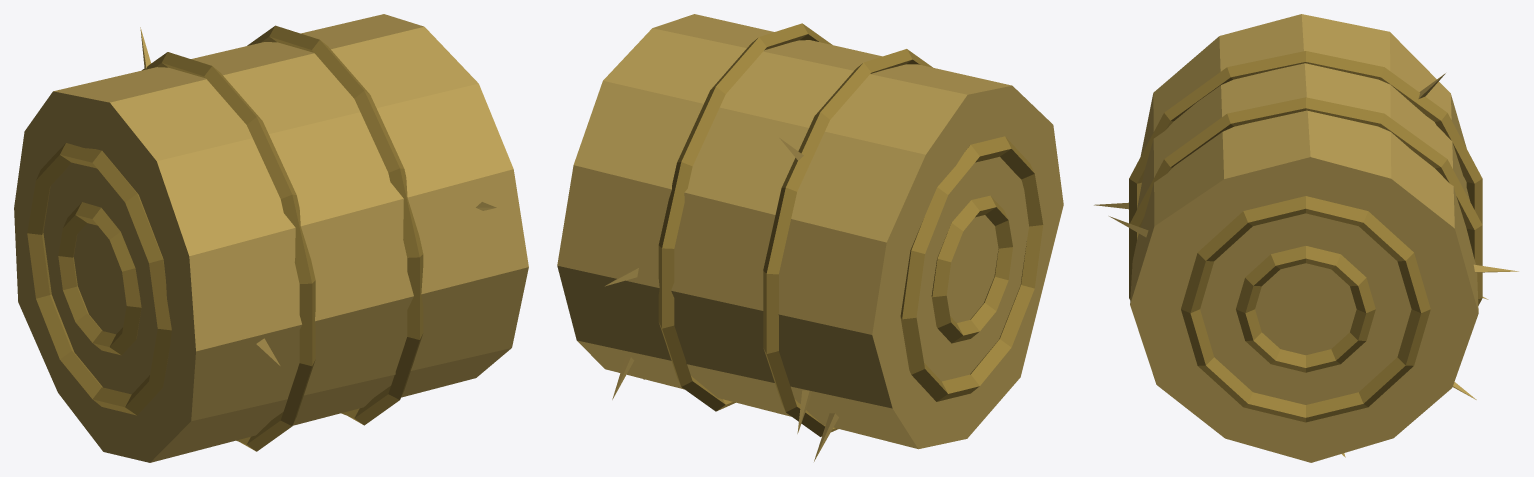
Rendered from haybale.glb.
3 renders of one model, left to right at view 1: azimuth 30°, elevation 25°; view 2: azimuth 150°, elevation 25°; view 3: azimuth 270°, elevation 25°, orthographic. The views are drawn at different scales.
Visible parts, largest first — view 1: haybale; view 2: haybale; view 3: haybale.
Part boxes in pixels (x1,y1,x2,y2): haybale: (14,14,528,462); haybale: (557,14,1063,461); haybale: (1094,14,1518,462).
Size of the model in its own units: 1.29 by 1.28 by 1.56.
